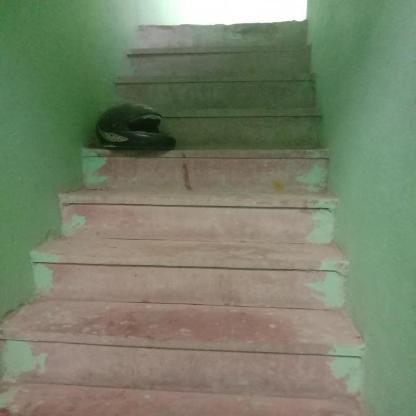stair: (32, 11, 361, 416)
